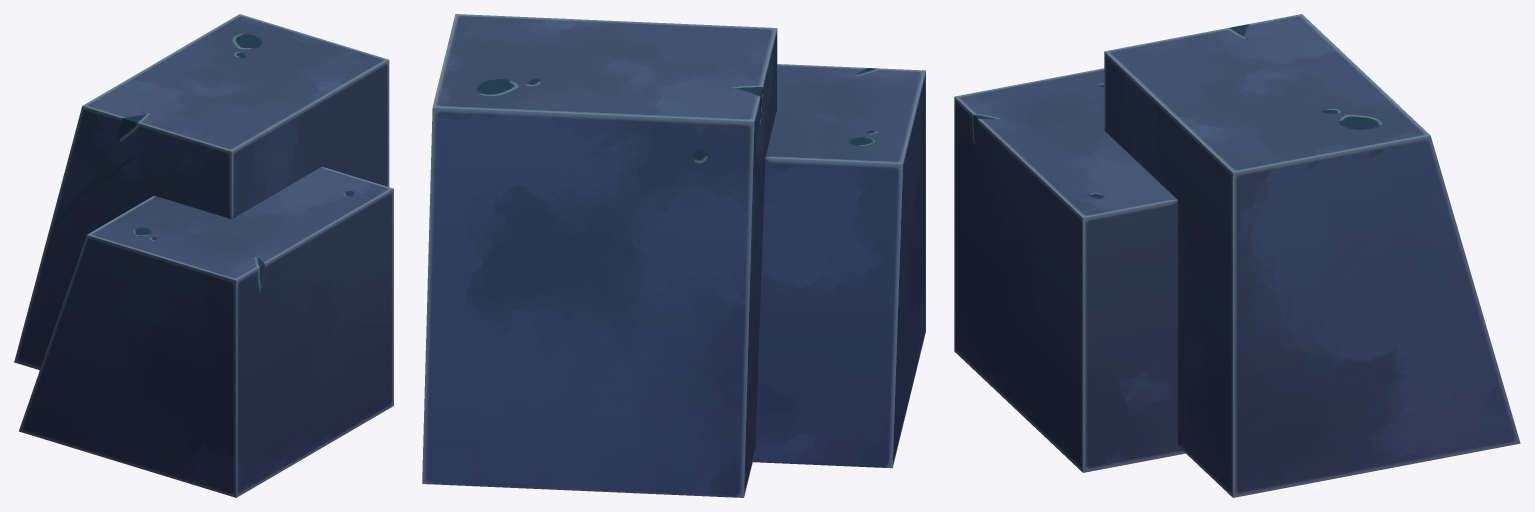
File: stone_01.glb
3 views of the same model, side by side, from view 1: azimuth 30°, elevation 25°; view 2: azimuth 150°, elevation 25°; view 3: azimuth 270°, elevation 25° (orthographic). The views are drawn at different scales.
Visible parts, largest first — view 1: Rocks.001; view 2: Rocks.001; view 3: Rocks.001.
Part boxes in pixels (box(x1,y1,x2,y2)): Rocks.001: box(14, 14, 393, 497); Rocks.001: box(422, 14, 925, 497); Rocks.001: box(954, 14, 1520, 497).
Bounding box in the file's own units: 3.15 × 2.34 × 3.6.
1 material, 1 textured.
